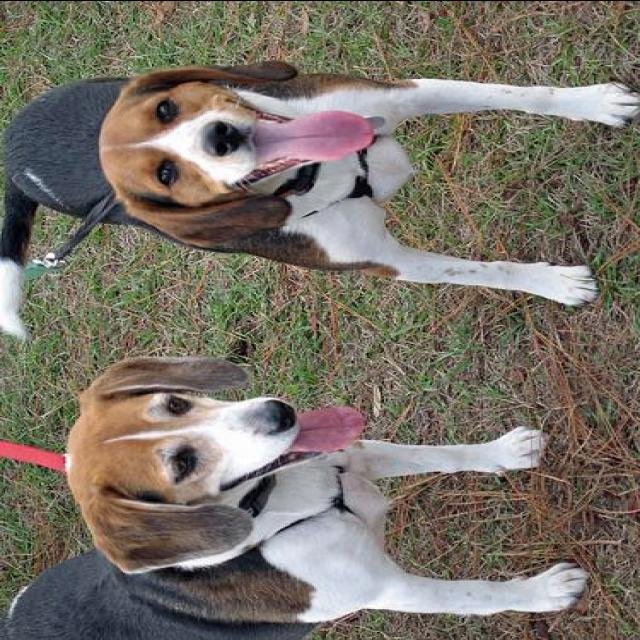beagle: (0, 353, 592, 640), (2, 59, 638, 308)
